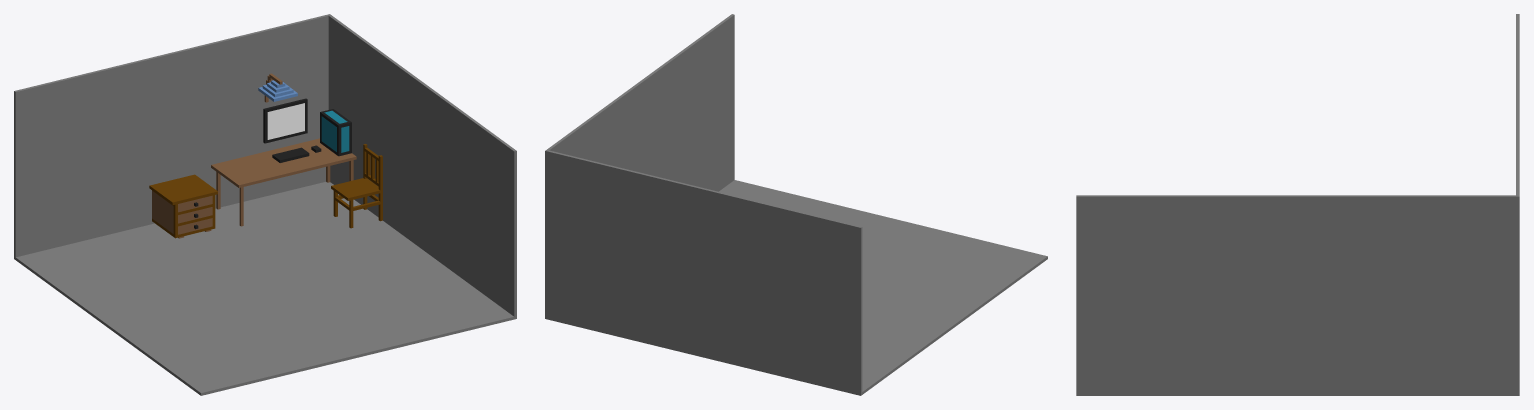
File: SimpleRoom.obj
The picture shows the model from 3 angles, left to right: view 1: azimuth 30°, elevation 25°; view 2: azimuth 150°, elevation 25°; view 3: azimuth 270°, elevation 25°; orthographic projection. The views are drawn at different scales.
Size of the model in its own units: 11.8 by 6 by 12.1.
1 material, 1 textured.
